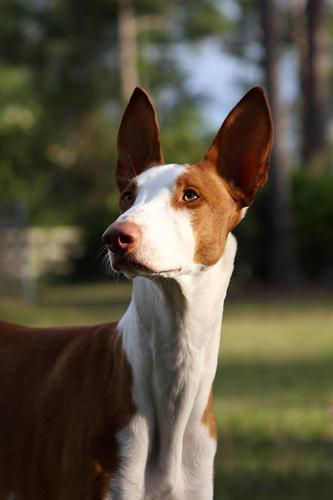Ibizan_hound: (1, 83, 275, 498)
